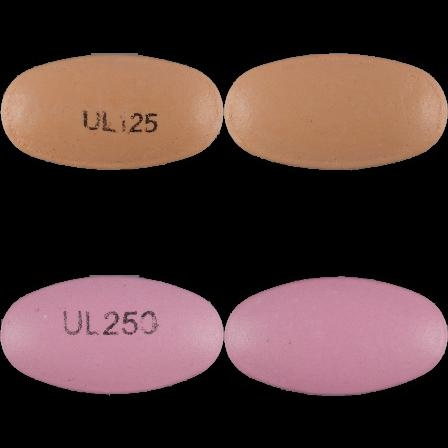29300-138: (0, 0, 224, 224)
